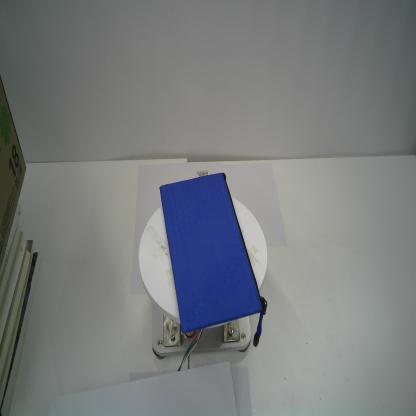Stationery: (158, 171, 269, 350)
